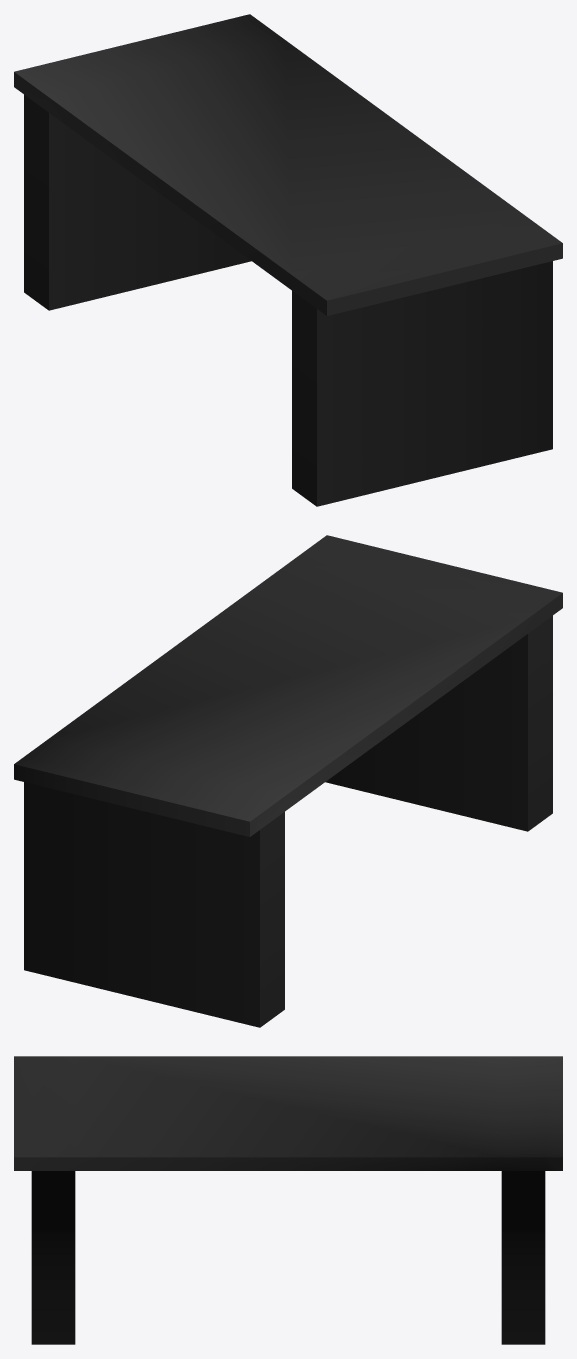
The model's file is Table.fbx.
The picture shows the model from 3 angles, top to bottom: view 1: azimuth 30°, elevation 25°; view 2: azimuth 150°, elevation 25°; view 3: azimuth 270°, elevation 25°; orthographic projection. The views are drawn at different scales.
Parts seen in each view (by area): view 1: pCube3; view 2: pCube3; view 3: pCube3.
Part boxes in pixels (x1=…): pCube3: x1=14, y1=14, x2=562, y2=506; pCube3: x1=14, y1=535, x2=562, y2=1027; pCube3: x1=14, y1=1056, x2=562, y2=1344.
Size of the model in its own units: 108 by 93.3 by 248.
Materials: 1 (1 with a texture image).
